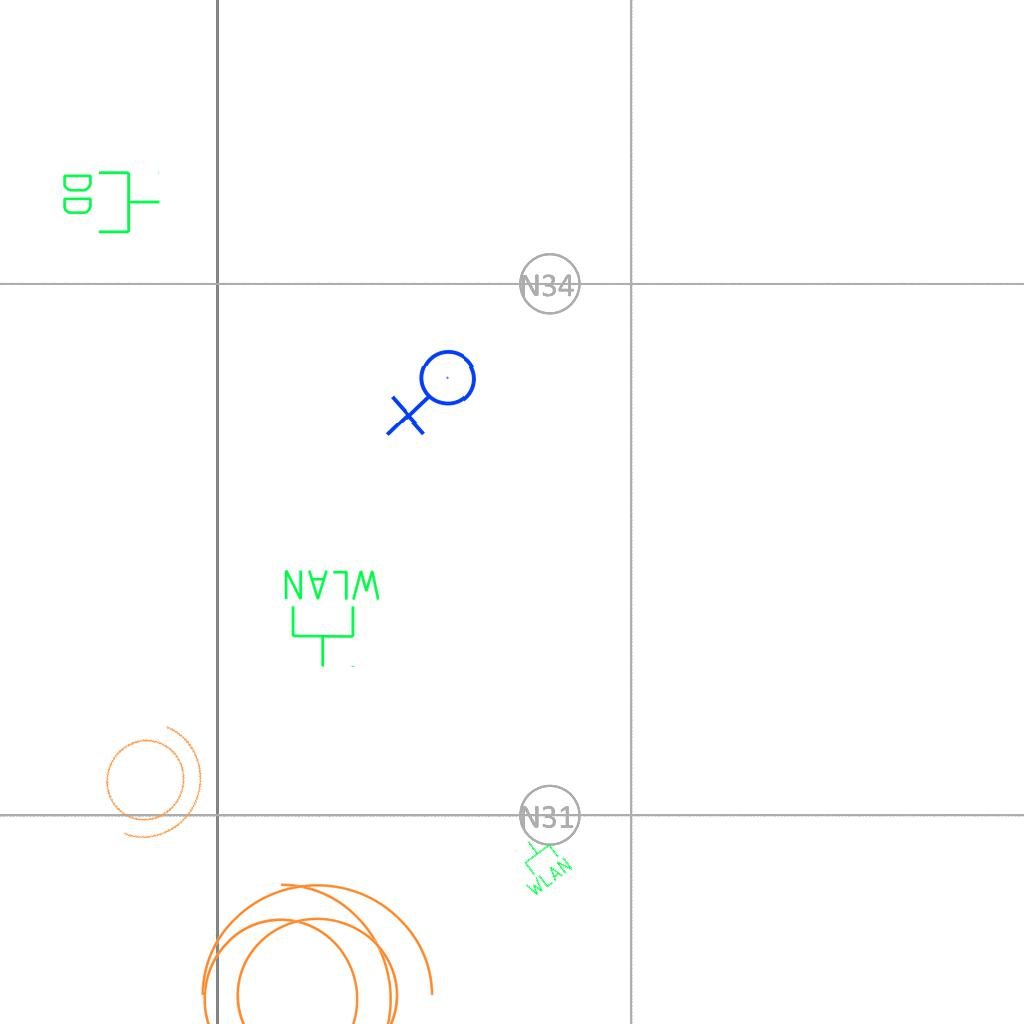Datenanschluss_zweifach: (59, 167, 162, 236)
Elektroanschluss_allgemein_230V_Geraeteanschlussdose_230V: (385, 347, 486, 443)
Scheinwerfer_fuer_Alarmbeleuchtung: (179, 873, 443, 1024), (178, 861, 403, 1024), (74, 696, 228, 862)
WLAN: (280, 566, 385, 670), (502, 827, 576, 901)
